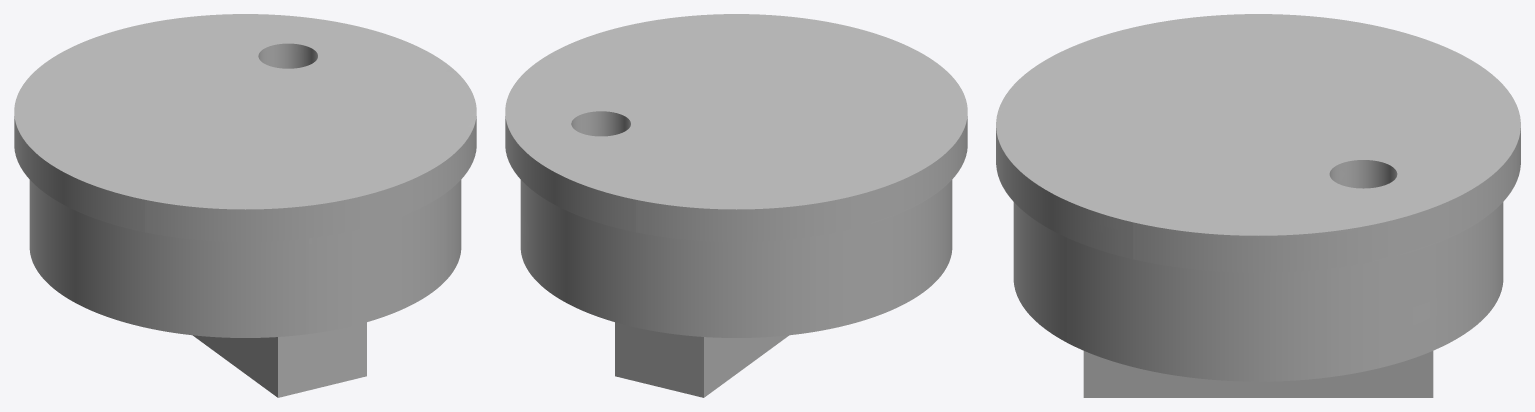
The model's file is gauge__gauge_body.glb.
3 views of the same model, side by side, from view 1: azimuth 30°, elevation 25°; view 2: azimuth 150°, elevation 25°; view 3: azimuth 270°, elevation 25° (orthographic). The views are drawn at different scales.
Visible parts, largest first — view 1: geometry_0; view 2: geometry_0; view 3: geometry_0.
Boxes of the visible parts, x1=… form: geometry_0: x1=14, y1=14, x2=476, y2=397; geometry_0: x1=505, y1=14, x2=967, y2=397; geometry_0: x1=996, y1=14, x2=1520, y2=397.
Size of the model in its own units: 0.09 by 0.047 by 0.09.
1 material, 1 textured.
